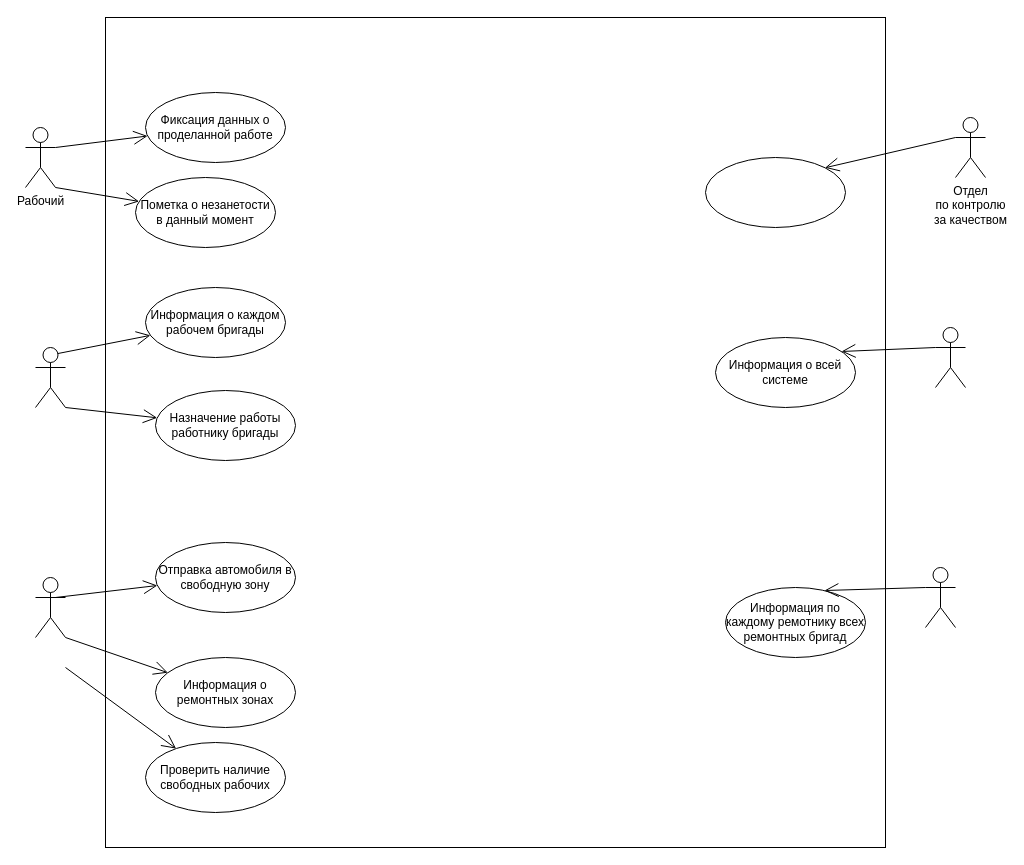
Image size: 1024x865. Some labels were removed from this diagram. The shapes that lost their labels are listed below. From the top down, each one's centre as x and y in pixels, then its label:
[775,192]: Информация о каждом участке конвеера
[50,377]: Бригадир
[950,357]: Начальник цеха
[50,607]: Диспетчер
[940,597]: Бухгалтерия
